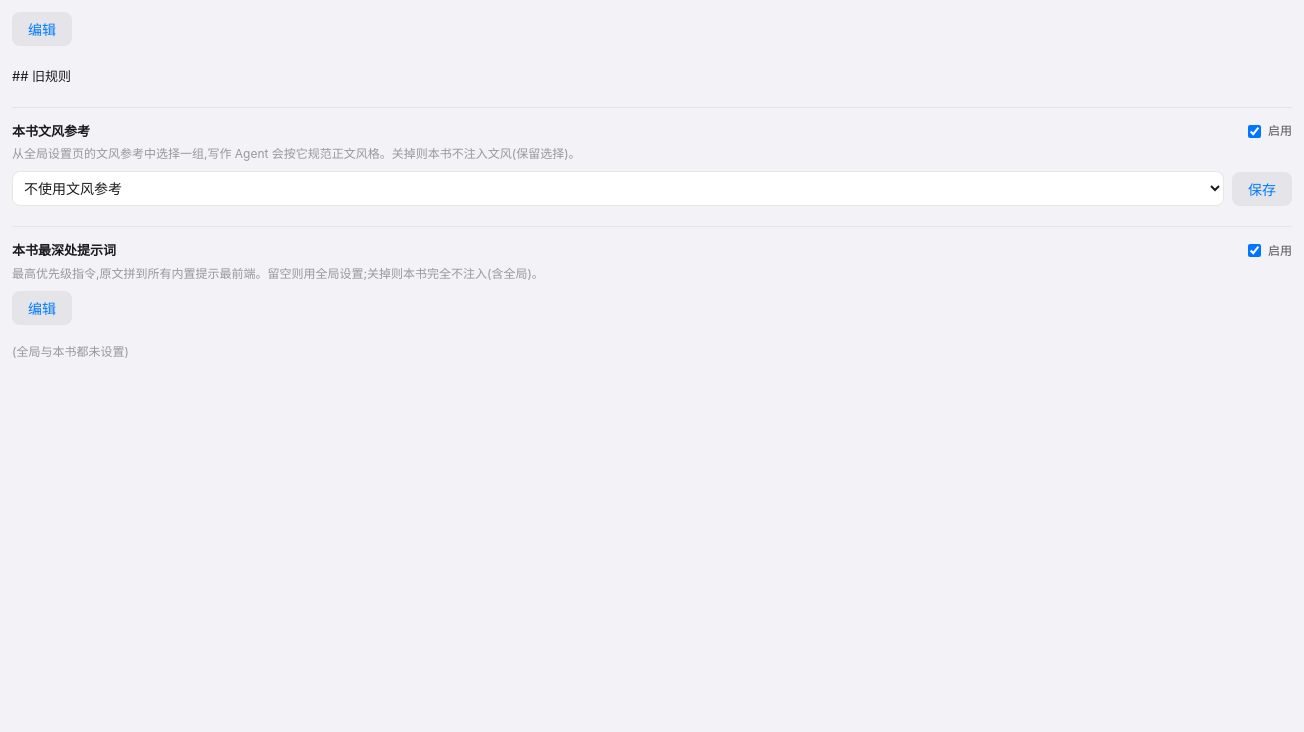
Test case: RulesPanel › 显示内容,编辑后保存发 PUT + 显示已保存
Expected: the text with test id "rules-content" shows "旧规则", [12,68,71,84]
Step 1. Click the button with test id "rules-edit" → x=42, y=29, box [12,12,72,46]
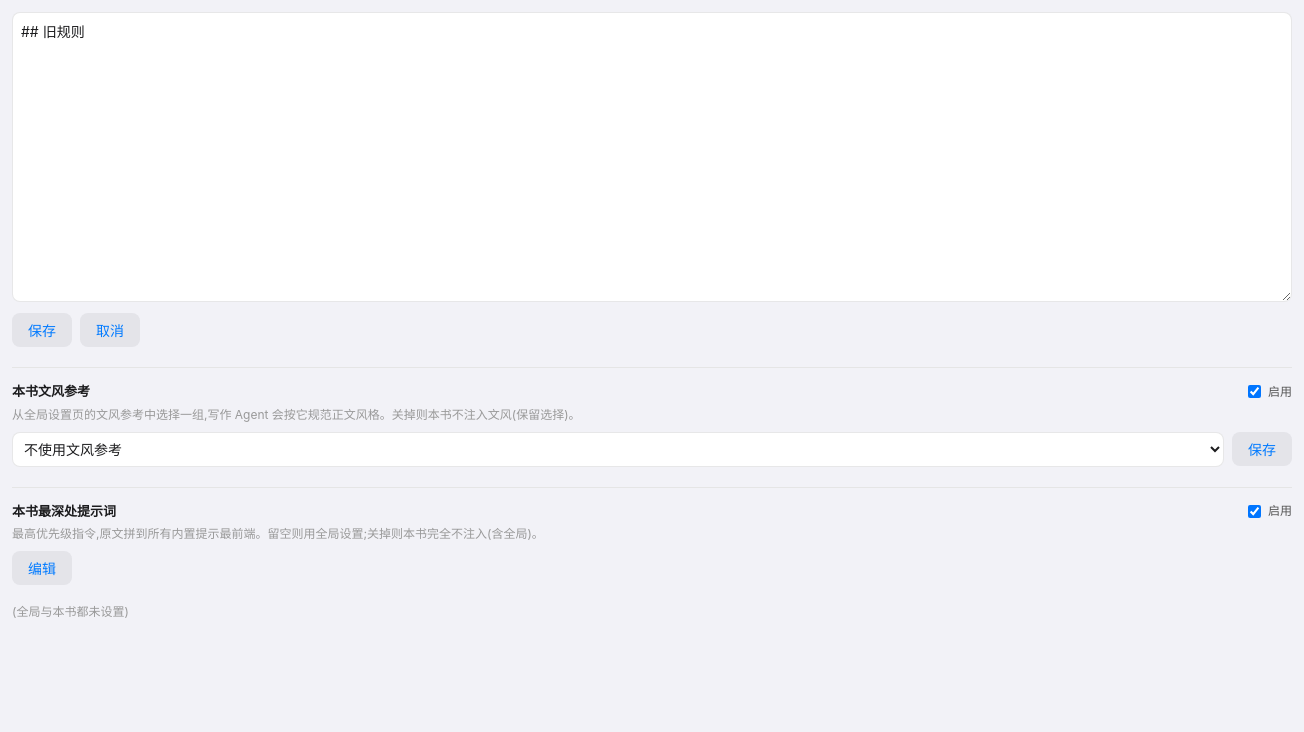
Step 2. Replace the text in the text box with test id "rules-textarea" with "## 新规则" → x=652, y=157, box [12,12,1292,302]
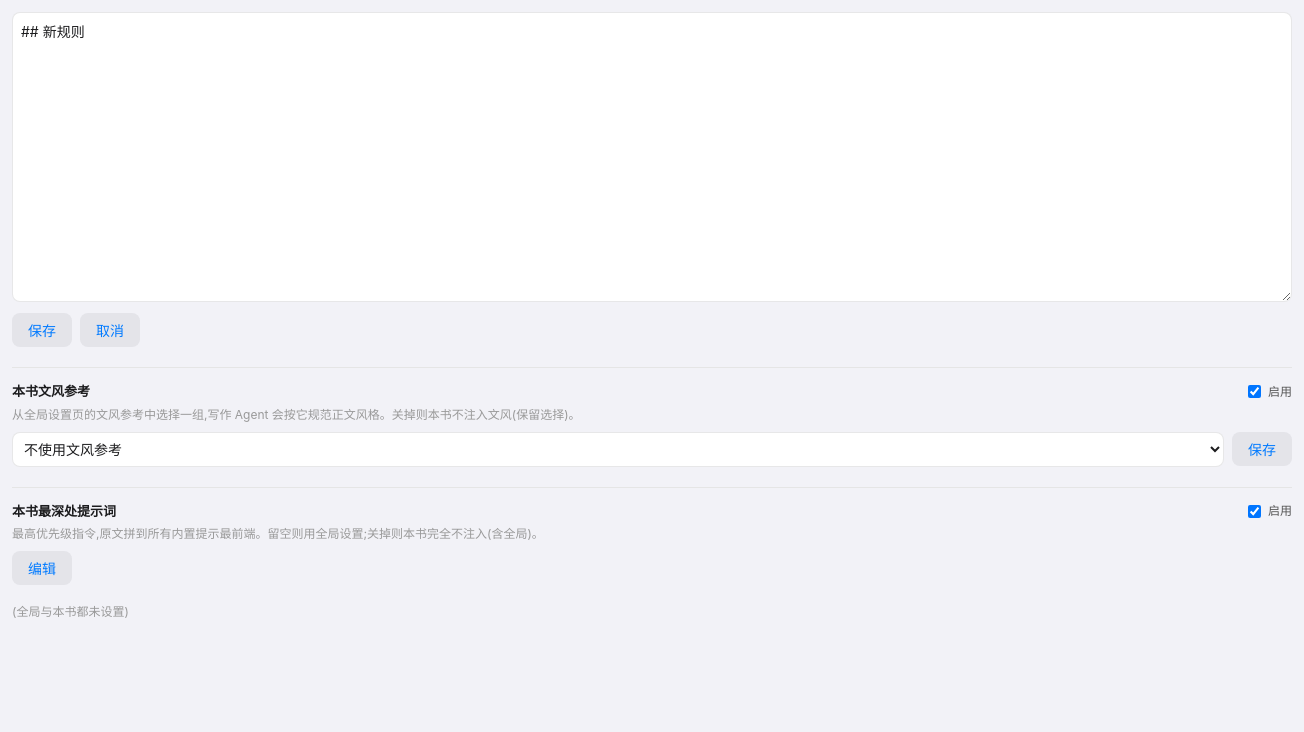
Step 3. Click the button with test id "rules-save" → x=42, y=330, box [12,313,72,347]
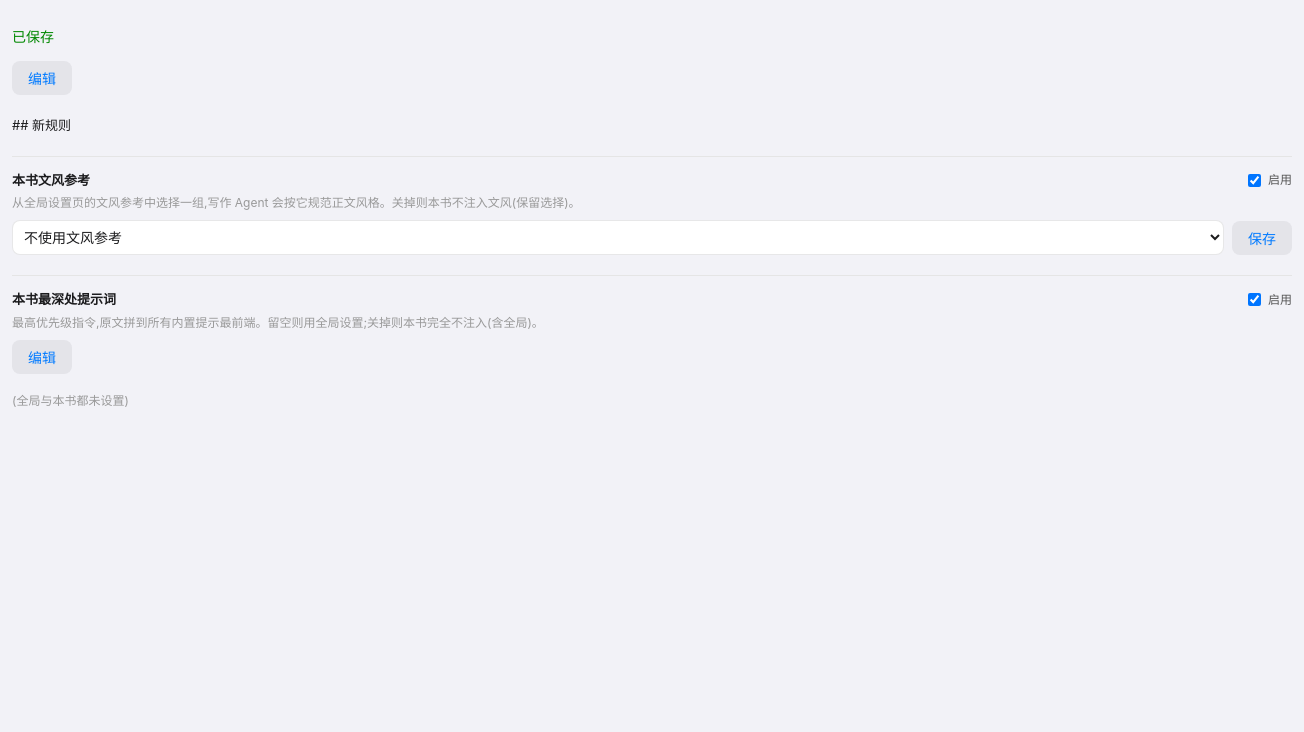
Result: the text "已保存" is shown at [12,28,54,45]
Result: the text with test id "rules-content" shows "新规则" at [12,117,71,133]
